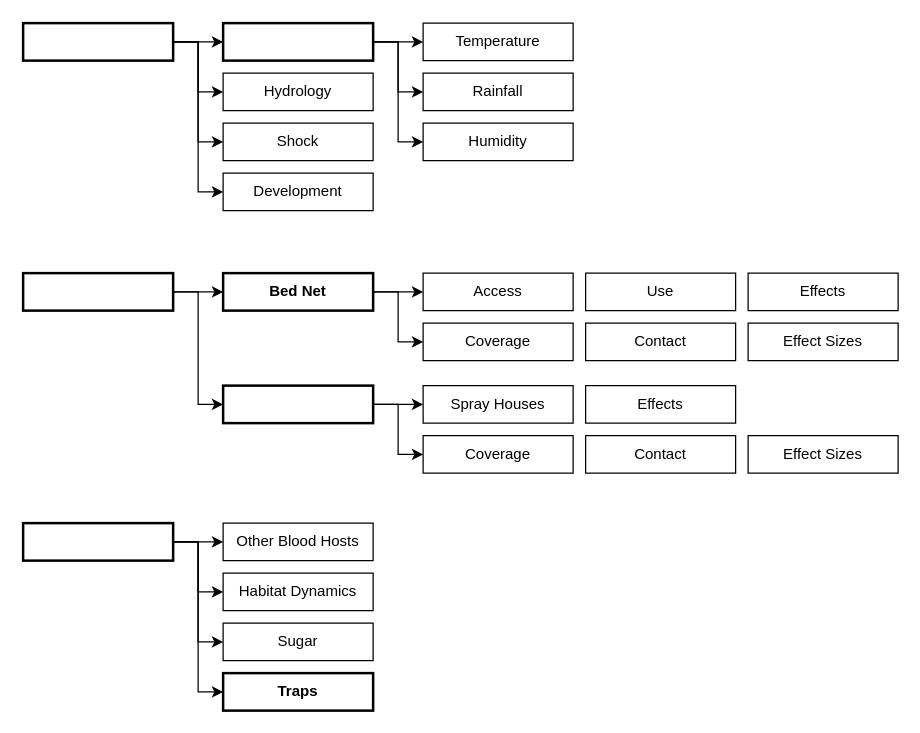
The diagram is 920 pixels wide and 733 high, and some of its shapes have lost their labels. The shapes that lost their labels are listed below. From the top down, each one's centre as x and y in pixels, then its label:
At point (97, 41): "Forcing".
At point (297, 41): "Weather".
At point (97, 291): "Vector Control".
At point (297, 404): "IRS".
At point (97, 541): "Resources".
